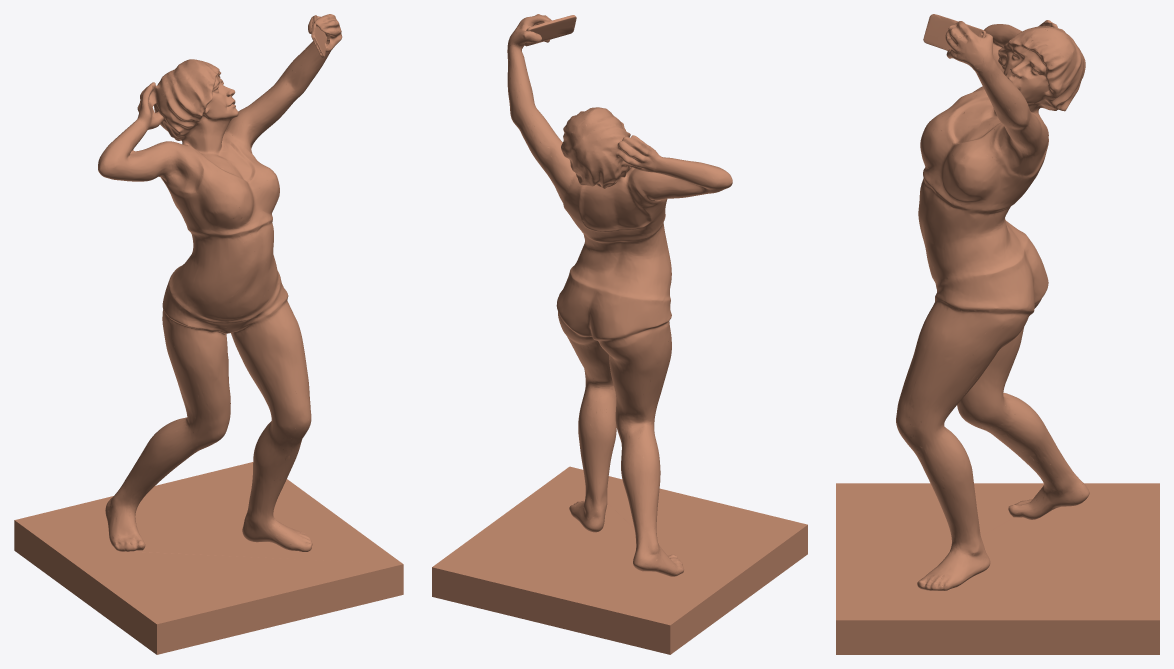
3 renders of one model, left to right at view 1: azimuth 30°, elevation 25°; view 2: azimuth 150°, elevation 25°; view 3: azimuth 270°, elevation 25°, orthographic. The views are drawn at different scales.
Visible parts, largest first — view 1: split_parent_0; view 2: split_parent_0; view 3: split_parent_0.
Boxes of the visible parts, <box> form: split_parent_0: <box>14,14,403,654</box>; split_parent_0: <box>432,14,807,654</box>; split_parent_0: <box>836,14,1159,654</box>.
Bounding box in the file's own units: 0.4749 × 1 × 0.4749.
